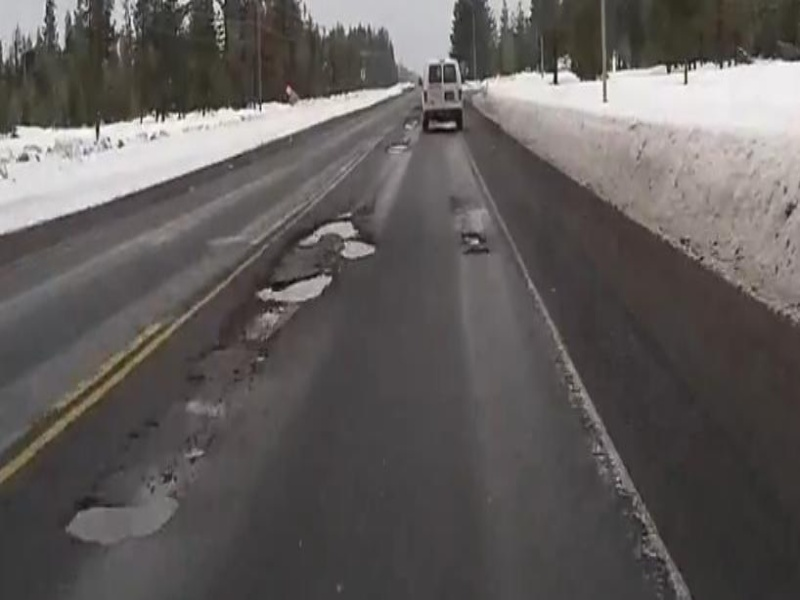pothole: (60, 482, 190, 553), (256, 269, 337, 304), (301, 213, 362, 247), (335, 237, 378, 260), (460, 230, 483, 248)
